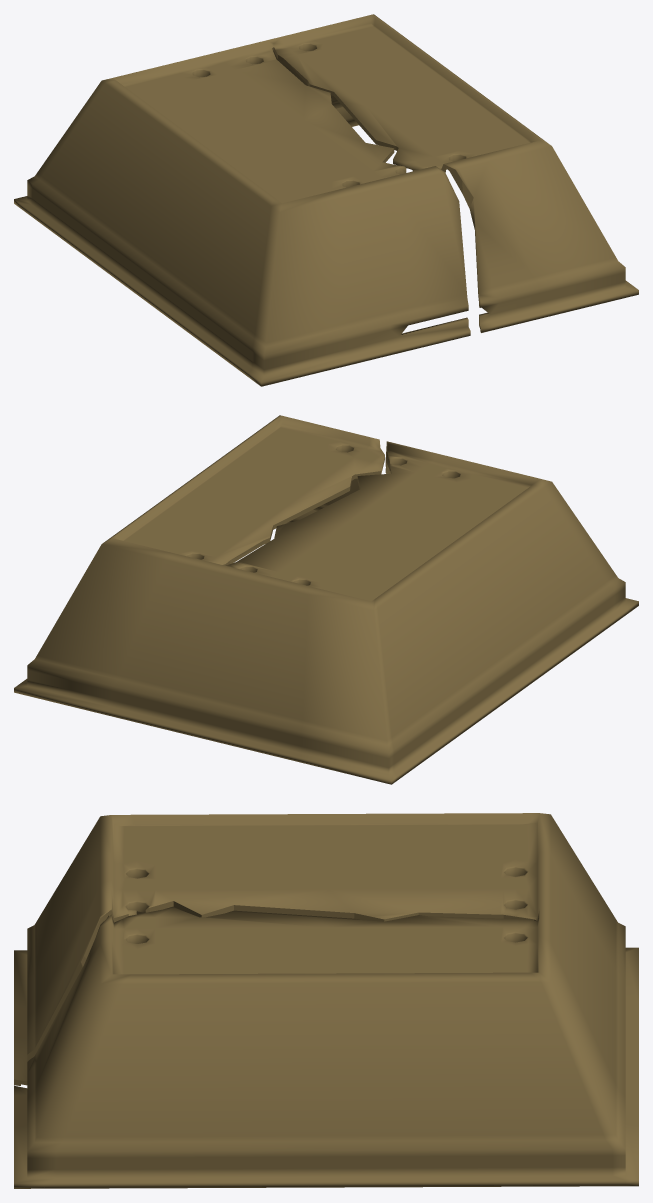
File: Mesh_BurgerBox_LidCracked.fbx
3 views of the same model, one above another, from view 1: azimuth 30°, elevation 25°; view 2: azimuth 150°, elevation 25°; view 3: azimuth 270°, elevation 25° (orthographic). The views are drawn at different scales.
Visible parts, largest first — view 1: burgerbox.lid.cracked; view 2: burgerbox.lid.cracked; view 3: burgerbox.lid.cracked.
Boxes of the visible parts, x1,y1,x2,y2 form: burgerbox.lid.cracked: [14, 14, 638, 386]; burgerbox.lid.cracked: [14, 415, 638, 784]; burgerbox.lid.cracked: [14, 813, 638, 1188].
Size of the model in its own units: 18.01 by 6.48 by 20.42.
